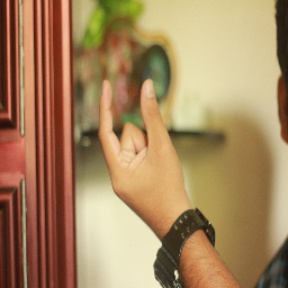U: (93, 73, 187, 207)
